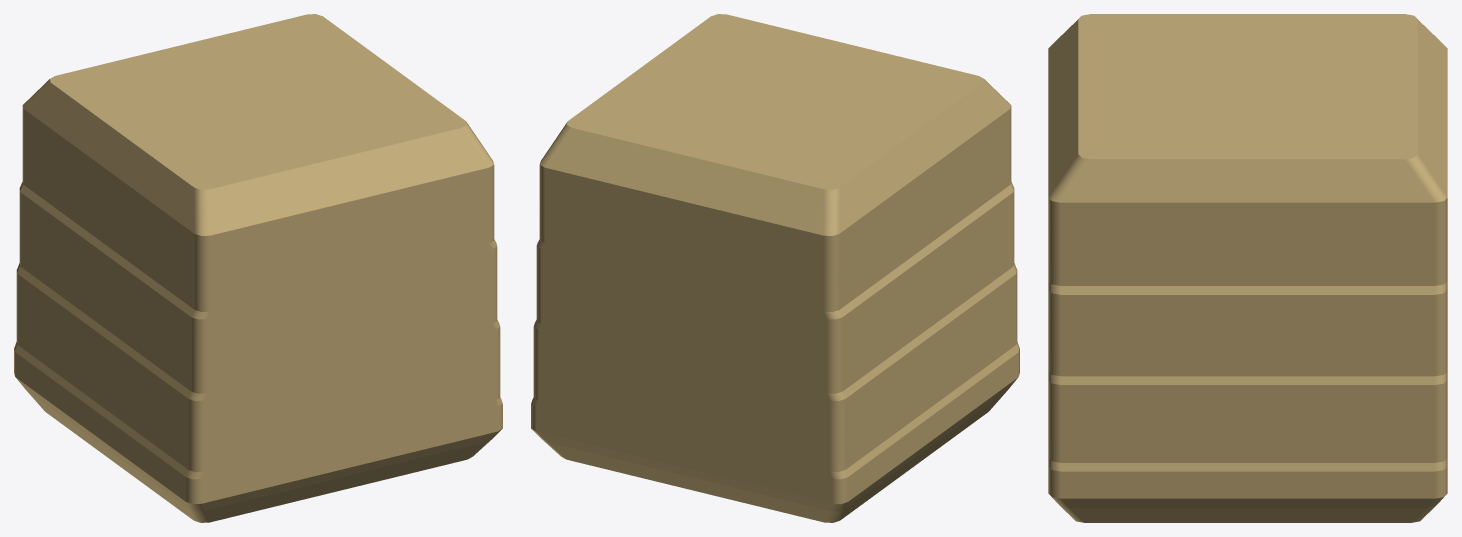
Rendered from machine-sifter-unit-authored-atlas.glb.
The picture shows the model from 3 angles, left to right: view 1: azimuth 30°, elevation 25°; view 2: azimuth 150°, elevation 25°; view 3: azimuth 270°, elevation 25°; orthographic projection. The views are drawn at different scales.
Parts seen in each view (by area): view 1: Authored surface; view 2: Authored surface; view 3: Authored surface.
Boxes of the visible parts, x1,y1,x2,y2 form: Authored surface: (14, 14, 502, 522); Authored surface: (531, 14, 1019, 522); Authored surface: (1048, 14, 1447, 522).
Bounding box in the file's own units: 1 × 1 × 1.
Materials: 1 (1 with a texture image).
